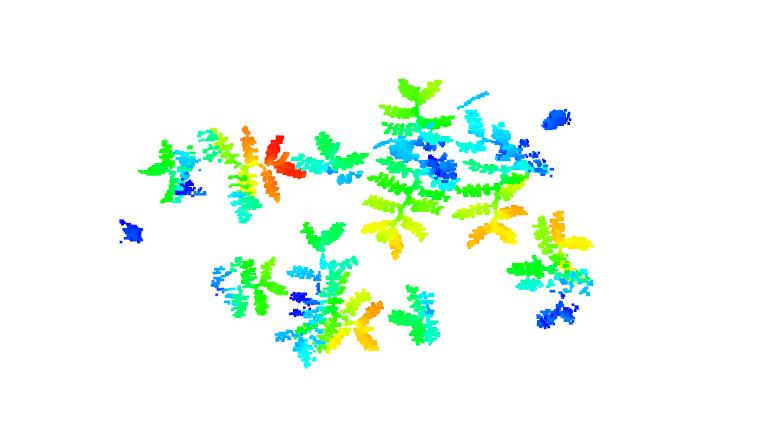chickpea: (354, 70, 470, 260), (266, 219, 384, 379), (149, 120, 311, 228), (460, 97, 537, 250), (509, 209, 594, 326), (205, 250, 291, 320), (297, 123, 369, 192), (384, 279, 443, 348)
